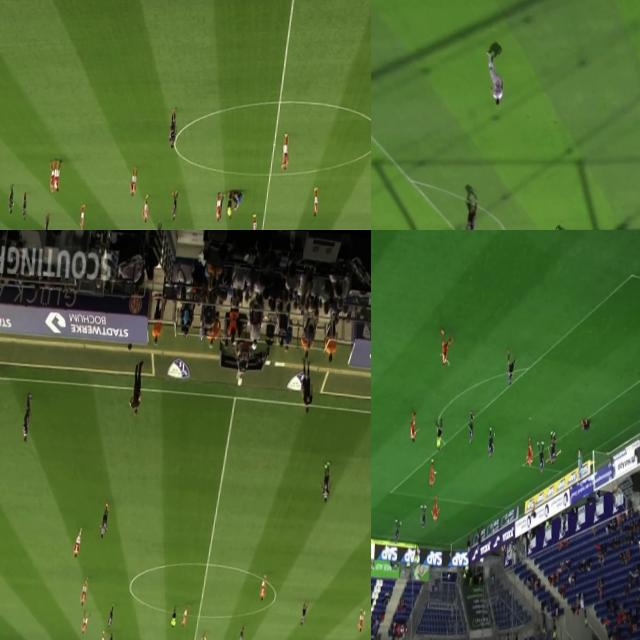player: (484, 50, 504, 103), (436, 329, 456, 368), (21, 395, 34, 446), (546, 428, 562, 467), (533, 437, 548, 476), (502, 348, 516, 388), (320, 458, 332, 504), (278, 132, 290, 172), (98, 503, 110, 543), (168, 106, 179, 148), (522, 435, 536, 468), (464, 196, 477, 230), (406, 409, 418, 444), (52, 158, 62, 194), (572, 450, 584, 479), (46, 160, 56, 194), (310, 187, 320, 220), (79, 576, 89, 608), (485, 428, 495, 460), (466, 413, 476, 445), (140, 194, 150, 224), (72, 528, 80, 562), (430, 496, 440, 522), (356, 606, 365, 634), (428, 459, 438, 484), (129, 168, 137, 198), (259, 572, 267, 602), (300, 598, 308, 628), (418, 506, 428, 530), (106, 604, 116, 627), (169, 192, 177, 220), (21, 190, 28, 222), (392, 515, 400, 543), (214, 193, 222, 220), (78, 203, 86, 230), (7, 188, 15, 214), (180, 603, 188, 628), (216, 196, 223, 224), (580, 418, 590, 437), (248, 212, 258, 230), (80, 614, 88, 636), (463, 219, 476, 230), (237, 623, 245, 640), (43, 213, 49, 230), (106, 630, 115, 640), (97, 629, 105, 640), (199, 630, 207, 640), (154, 222, 162, 230)
